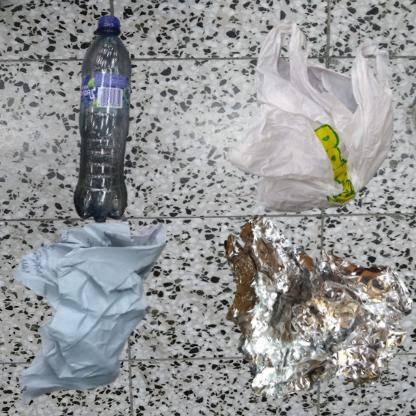aluminio: (213, 213, 416, 409)
bolsa: (213, 10, 416, 262)
botella: (10, 10, 250, 296)
papel: (10, 213, 168, 409)
